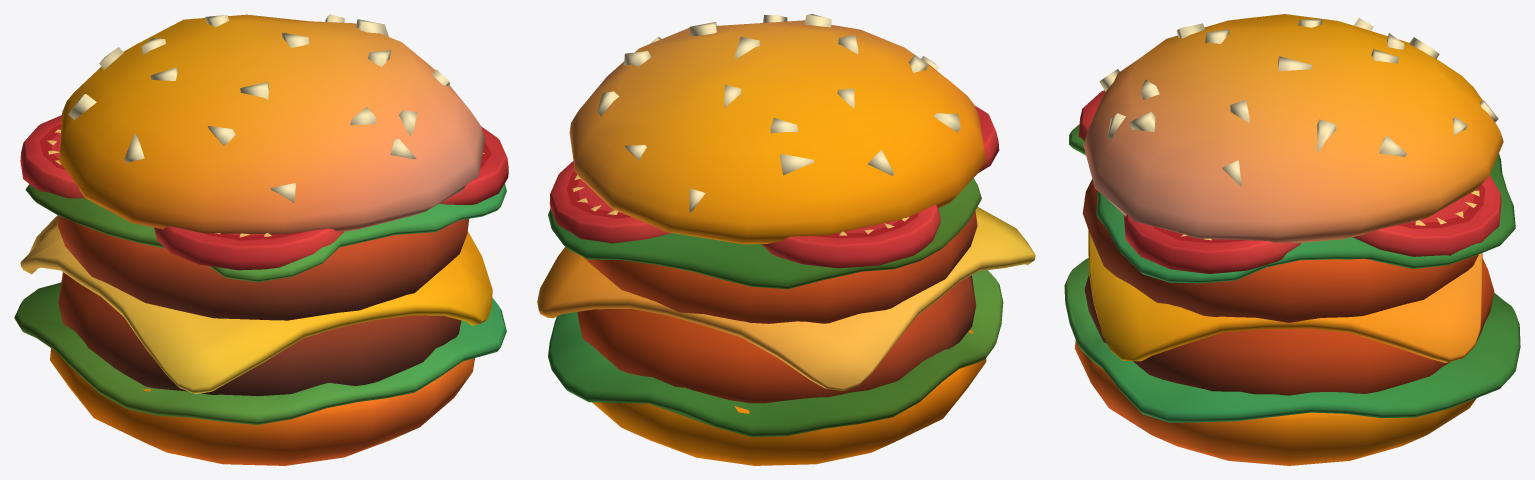
The model's file is burger_002.fbx.
3 views of the same model, side by side, from view 1: azimuth 30°, elevation 25°; view 2: azimuth 150°, elevation 25°; view 3: azimuth 270°, elevation 25° (orthographic).
Visible parts, largest first — view 1: burger_002; view 2: burger_002; view 3: burger_002.
Part boxes in pixels (x1,y1,x2,y2): burger_002: (14,14,508,465); burger_002: (537,14,1035,465); burger_002: (1064,14,1520,465).
Size of the model in its own units: 13.06 by 13.05 by 11.15.
